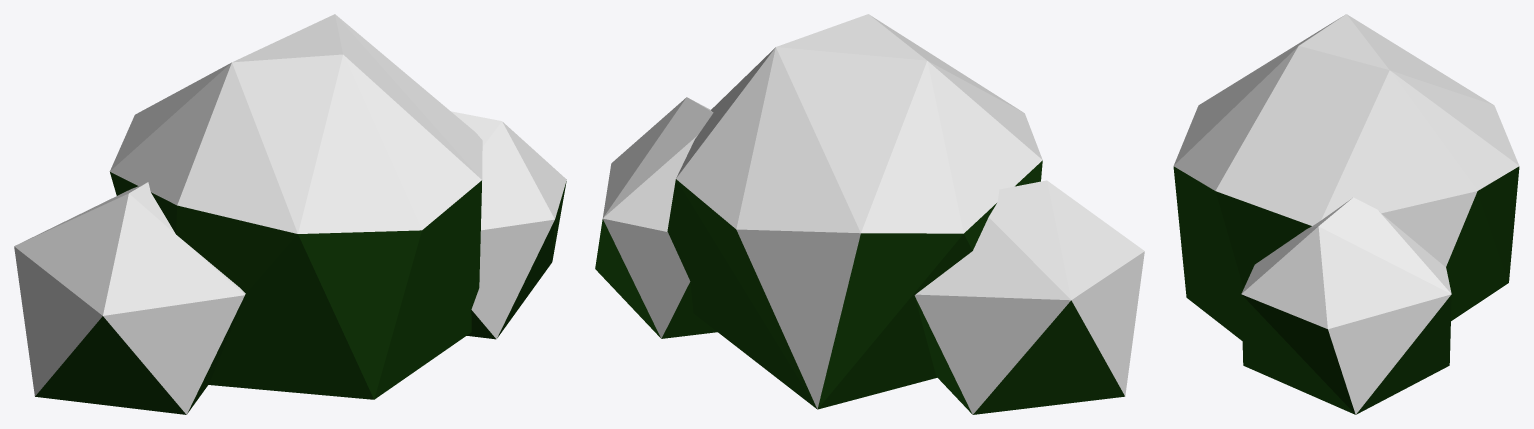
The model's file is Bush_6_Snow.fbx.
The picture shows the model from 3 angles, left to right: view 1: azimuth 30°, elevation 25°; view 2: azimuth 150°, elevation 25°; view 3: azimuth 270°, elevation 25°; orthographic projection. The views are drawn at different scales.
Visible parts, largest first — view 1: Bush_6_Snow; view 2: Bush_6_Snow; view 3: Bush_6_Snow.
Boxes of the visible parts, x1,y1,x2,y2 form: Bush_6_Snow: (14,14,566,414); Bush_6_Snow: (595,14,1144,414); Bush_6_Snow: (1173,14,1519,414).
Bounding box in the file's own units: 228 × 122 × 144.
